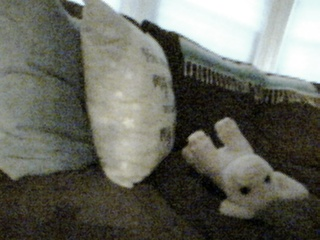piggy: (182, 115, 311, 222)
